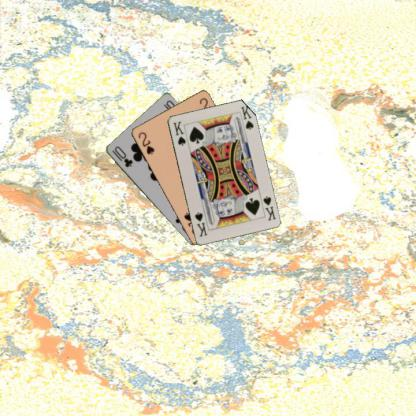10c: (109, 143, 134, 169)
2s: (135, 130, 156, 156)
Ks: (260, 193, 277, 221), (170, 118, 186, 147)
